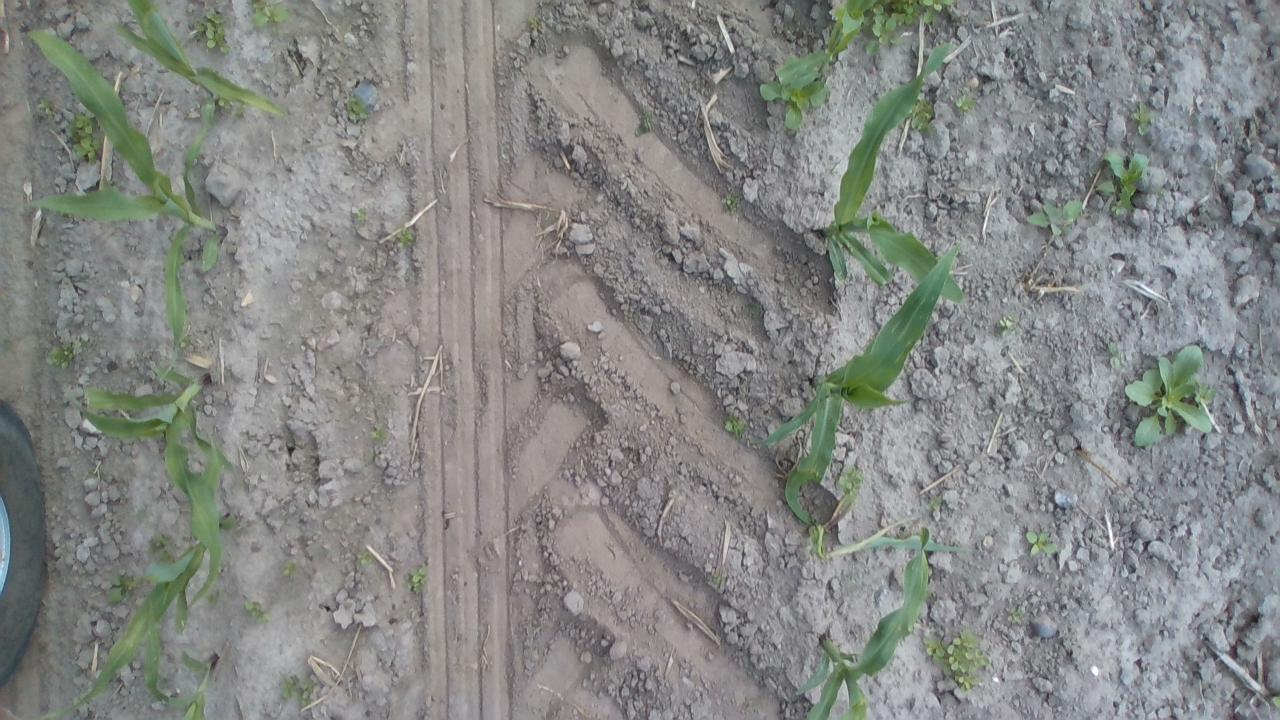Maize: (20, 23, 228, 380), (746, 243, 974, 544), (28, 510, 240, 720), (62, 355, 236, 609), (816, 30, 970, 304), (794, 522, 932, 720), (111, 0, 292, 120), (772, 0, 882, 89), (819, 513, 974, 571), (144, 609, 223, 720)
Weeds: (1124, 342, 1218, 452), (922, 628, 992, 690), (758, 81, 832, 133), (1098, 149, 1153, 215), (1024, 196, 1086, 245), (861, 3, 905, 56), (64, 108, 100, 166), (894, 0, 958, 30), (192, 12, 228, 54), (276, 673, 316, 707), (240, 593, 276, 627), (248, 0, 291, 28), (44, 339, 78, 372), (106, 572, 139, 606), (836, 462, 868, 496), (1025, 527, 1058, 559), (911, 98, 938, 134), (954, 90, 986, 119), (404, 564, 433, 595), (722, 412, 752, 441), (1130, 102, 1154, 138), (344, 94, 371, 124), (636, 104, 659, 138), (722, 190, 744, 218), (524, 14, 548, 39), (144, 530, 176, 548), (998, 311, 1018, 339), (1001, 602, 1024, 624), (924, 490, 944, 512), (1108, 340, 1123, 369), (396, 225, 416, 246), (352, 206, 370, 229), (368, 420, 388, 440), (356, 546, 374, 567), (280, 560, 298, 580), (179, 334, 197, 351), (38, 94, 53, 114), (213, 98, 234, 112), (158, 550, 177, 564), (707, 568, 721, 586), (208, 591, 222, 606)
